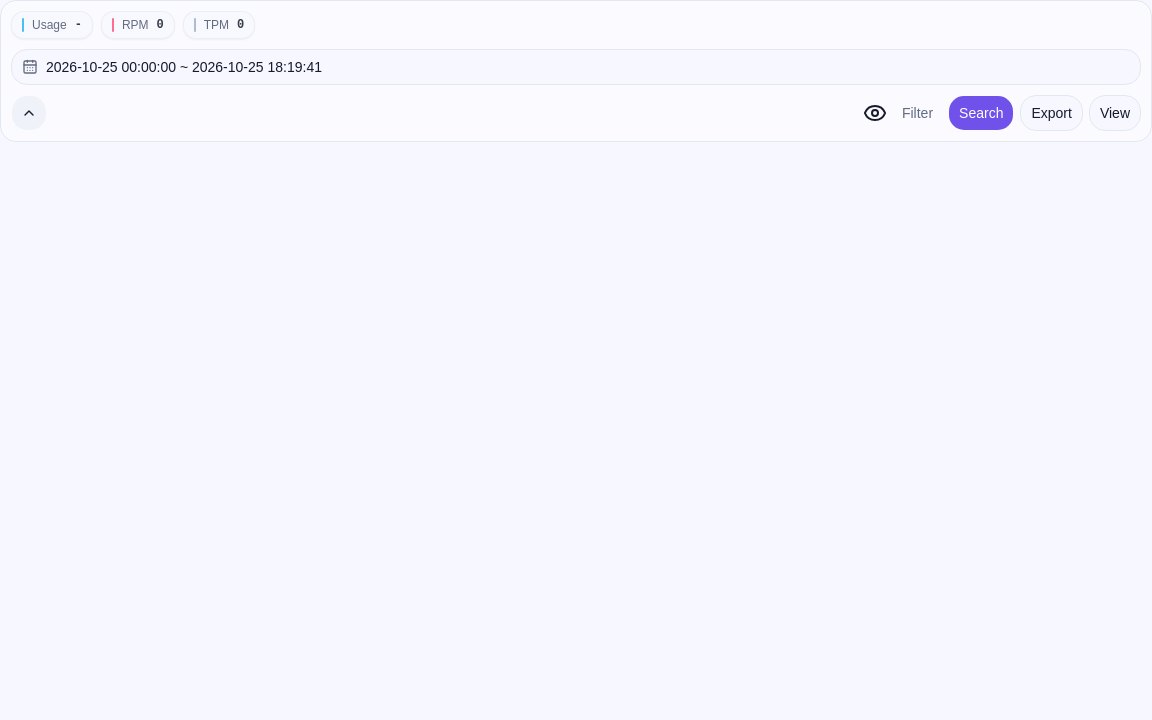
Test: lets mobile users select a long group name inside the filter drawer and submit it
This screenshot has width=1152, height=720.
What coordinates should you click on to do the following:
click the button "Filter"
I would click on:
 (918, 113)
Its box is [893, 95, 942, 131].
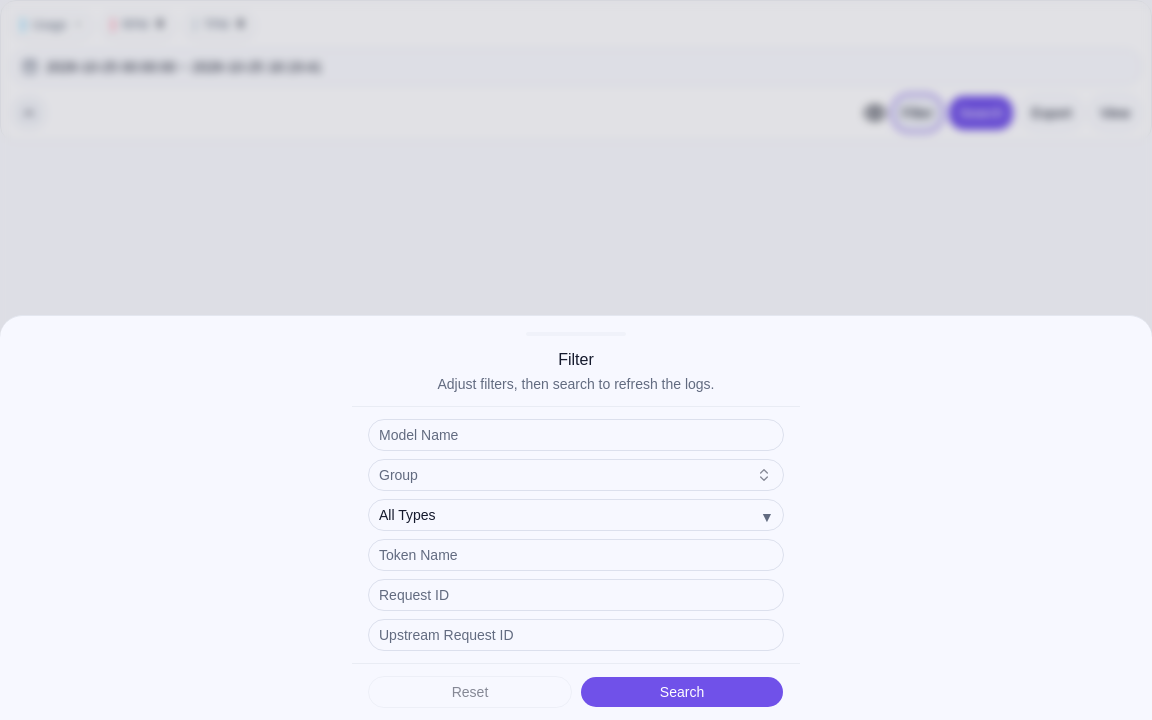
Result: the dropdown labelled "Group" is shown
What coordinates should you click on to do the following:
click the dropdown labelled "Group"
I would click on:
 (576, 475)
Its box is [368, 459, 784, 491].
(page scrolled)
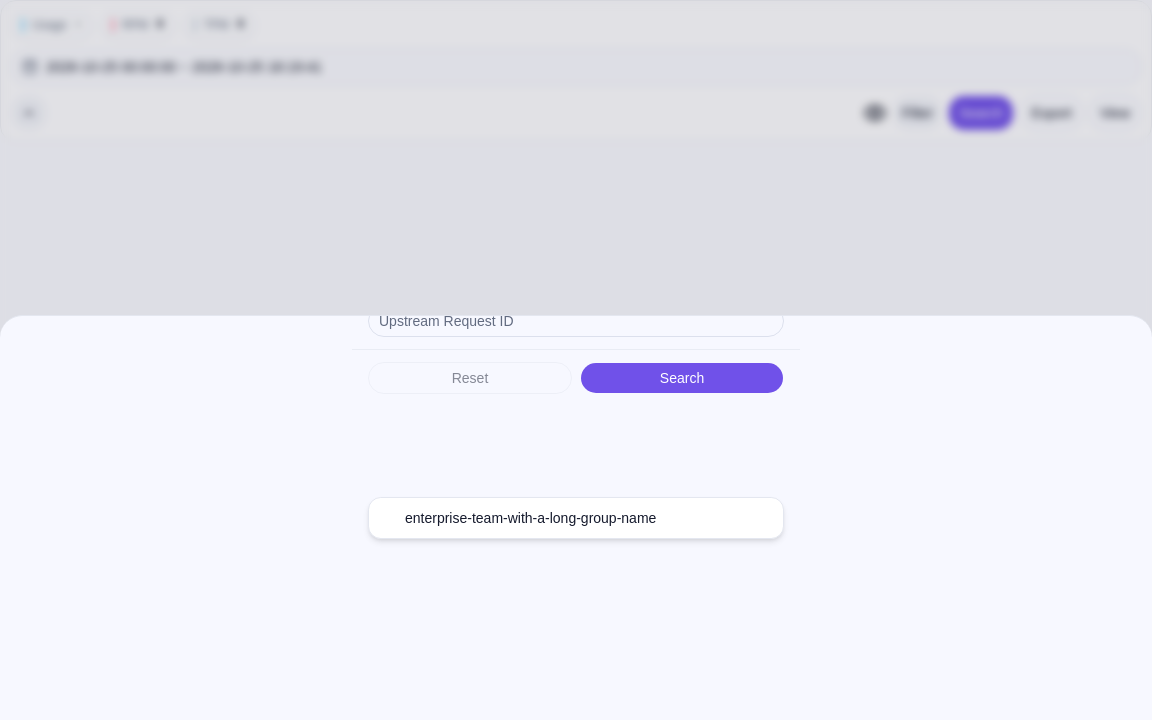
Result: the option "enterprise-team-with-a-long-group-name" is shown
What coordinates should you click on to do the following:
click the option "enterprise-team-with-a-long-group-name"
I would click on:
 (531, 518)
Its box is [405, 510, 656, 526].
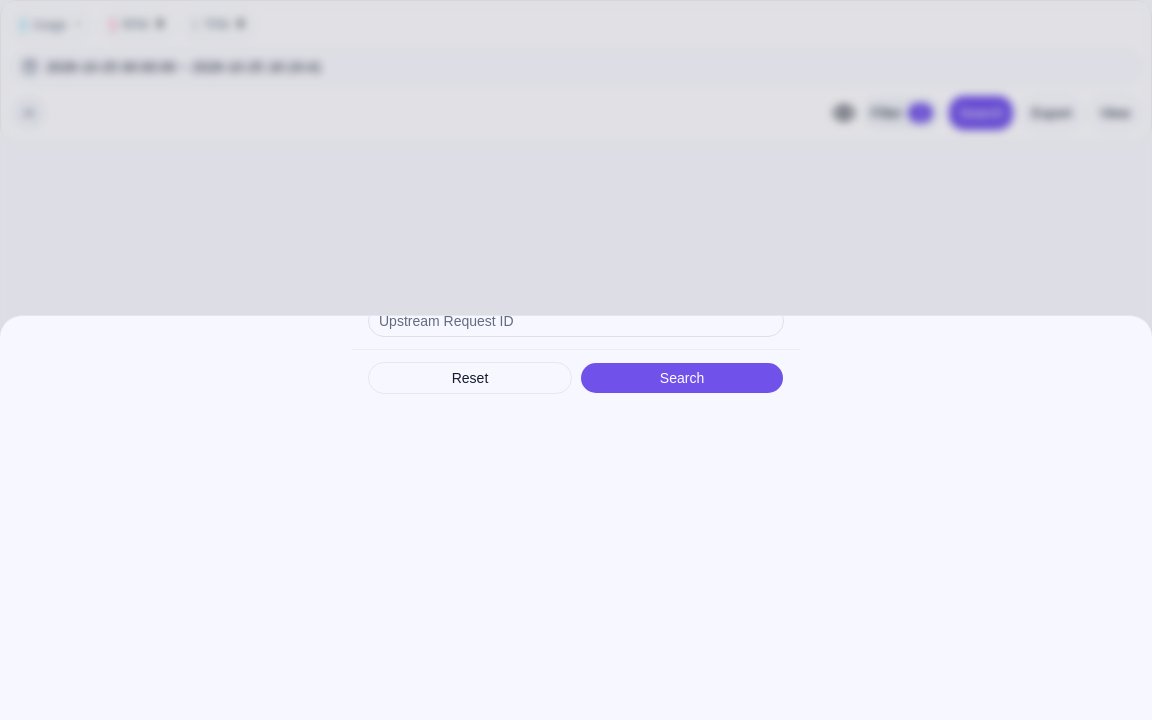
Result: the dialog is shown at [0, 315, 1151, 719]
What coordinates should you click on to do the following:
click the button "Search"
I would click on:
 (682, 378)
Its box is [580, 362, 784, 394].
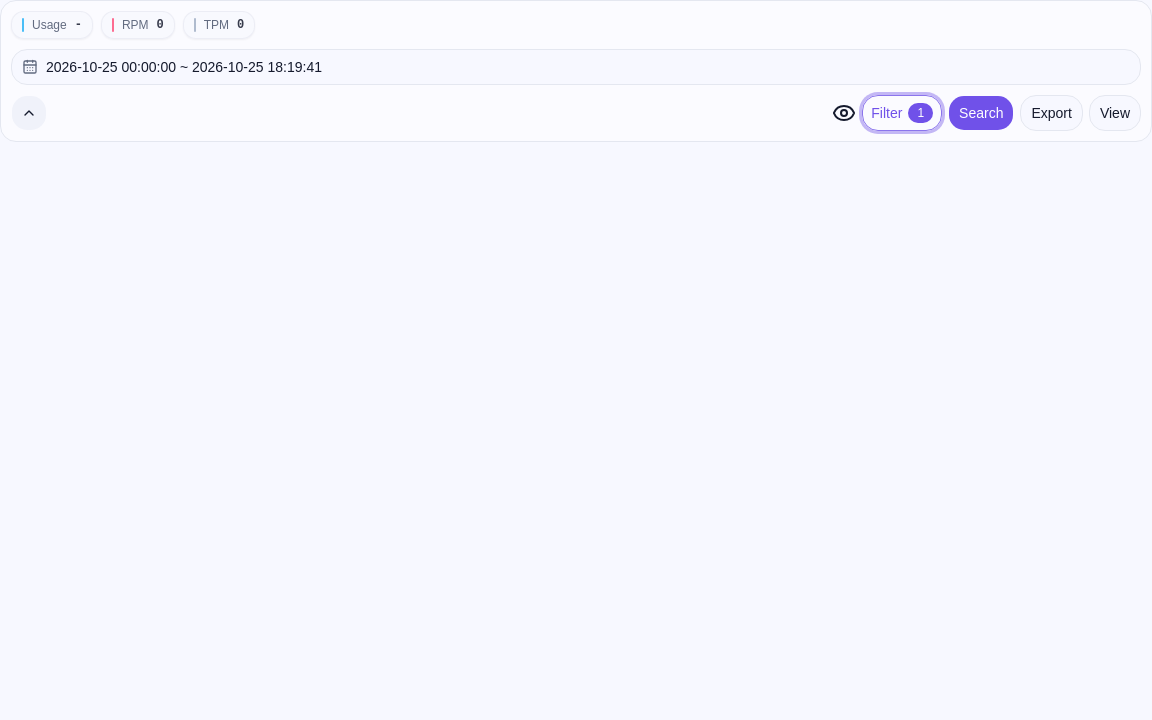
Result: the dialog is gone
